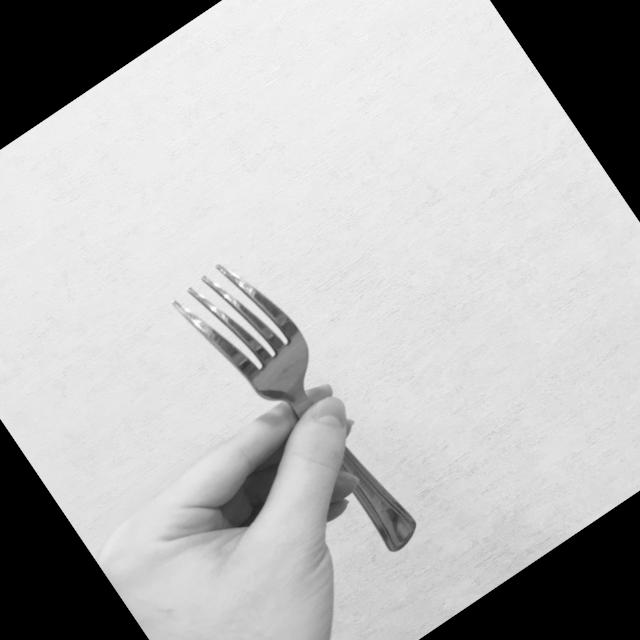fork: (161, 240, 435, 580)
